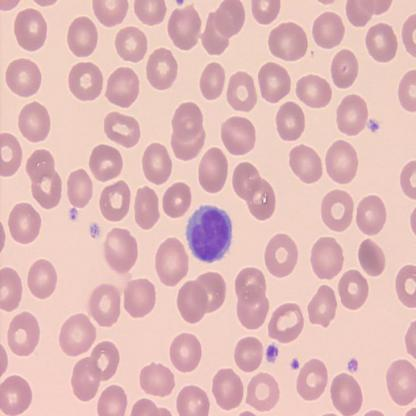Lymphocyte: (186, 202, 233, 264)
